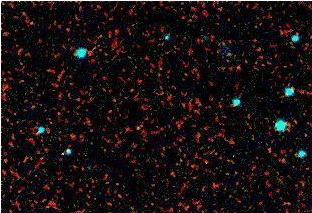star: (121, 112, 151, 142)
